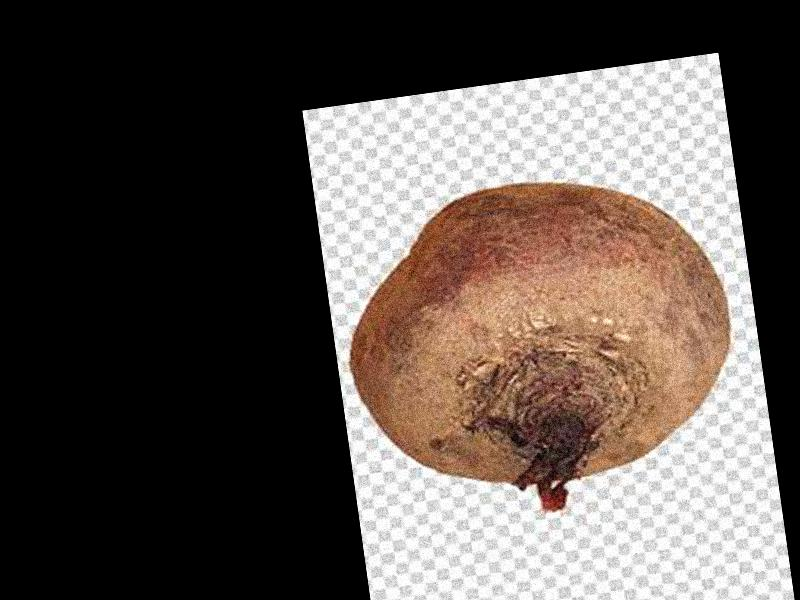Beet: (332, 159, 750, 536)
